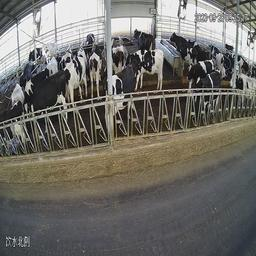cow: (30, 68, 72, 135), (110, 59, 143, 129), (1, 101, 26, 159), (196, 69, 221, 126), (227, 67, 255, 115), (68, 50, 89, 100), (87, 41, 103, 104), (169, 27, 196, 63), (146, 46, 165, 94), (184, 59, 217, 81), (132, 22, 155, 50), (210, 39, 223, 70), (113, 39, 125, 70), (28, 45, 41, 65)
